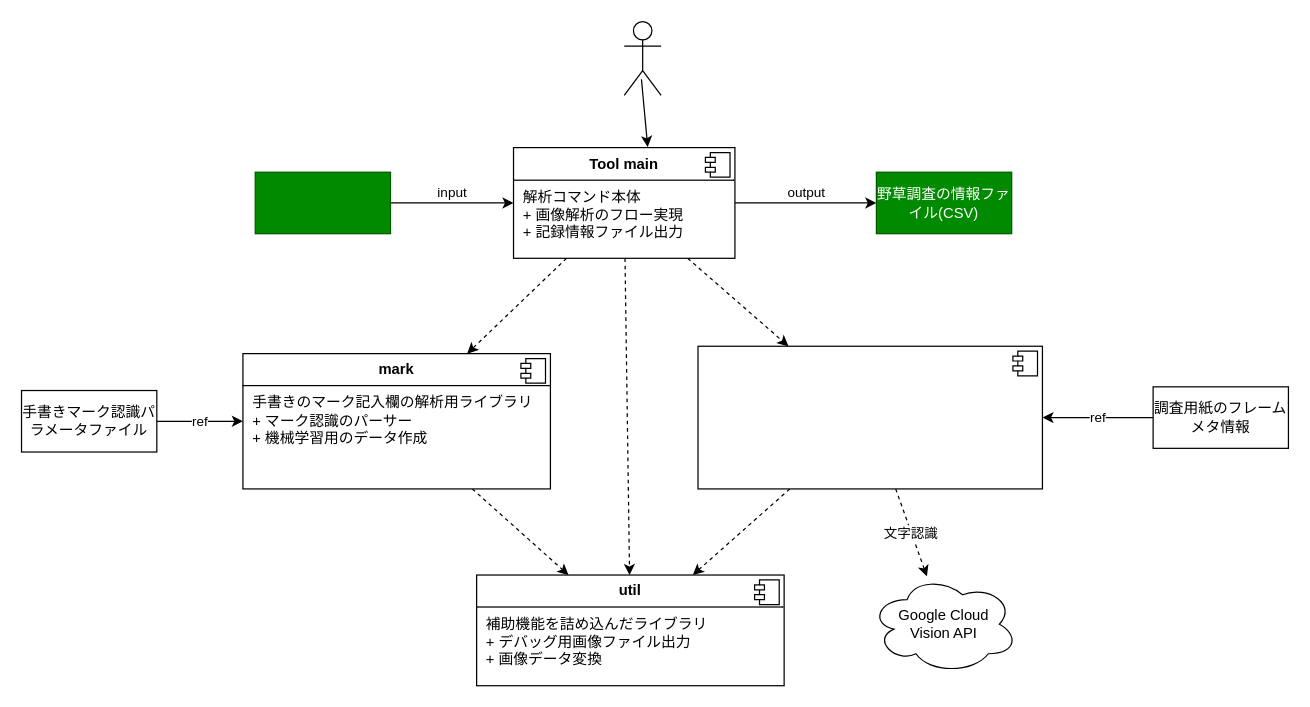
Image size: 1310x707. Some labels were removed from this diagram. The centre of each missing label's shape, as x and y in pixels:
frame 記録画像のフレーム切り出し処理用ライブラリ + 外枠のトリミング + フレームの切り出し + 表形式フレームの切り出し + フレーム内の文字認識: (x=869, y=417)
user: (x=642, y=57)
野草調査の画像ファイル群(JPG): (x=322, y=202)
